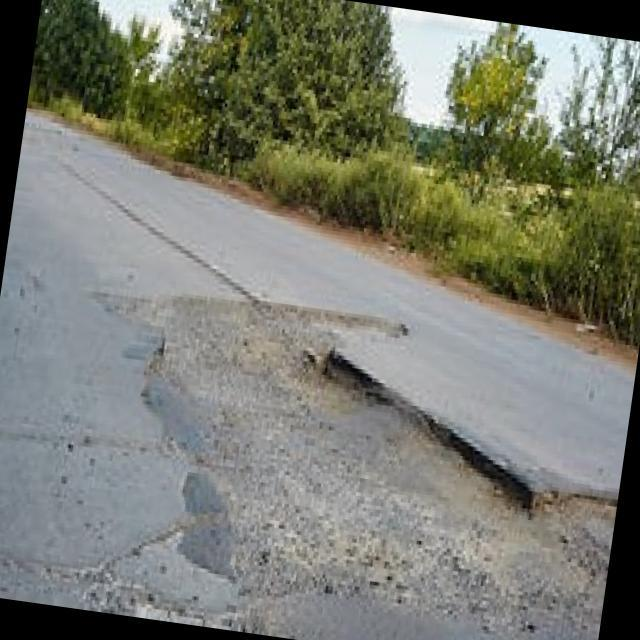Pothole: (49, 262, 640, 640)
